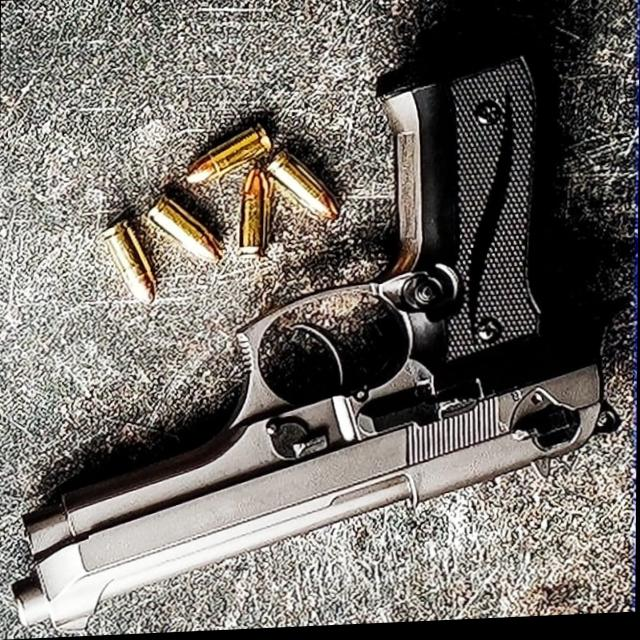handgun: (12, 42, 621, 633)
